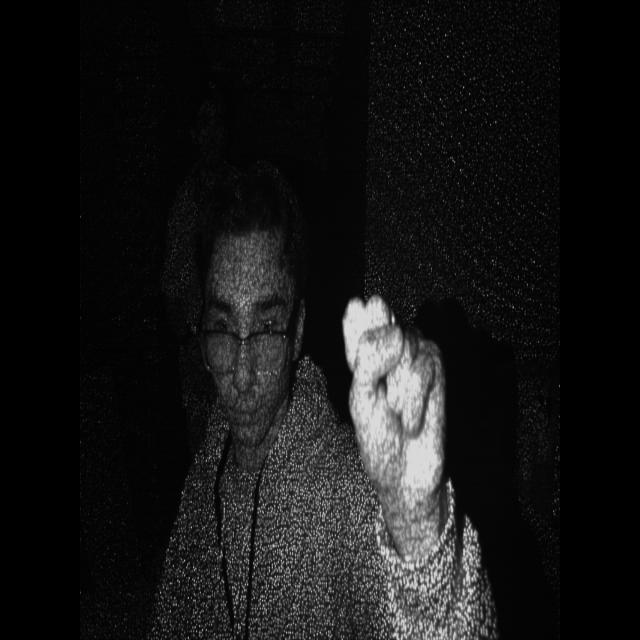S: (332, 277, 460, 529)
